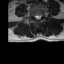CCS_normal: (37, 12, 39, 22)
LFS_normal: (41, 12, 43, 19)
LLS_normal: (39, 12, 41, 21)
RFS_normal: (32, 10, 35, 19)
RLS_normal: (35, 12, 37, 20)
